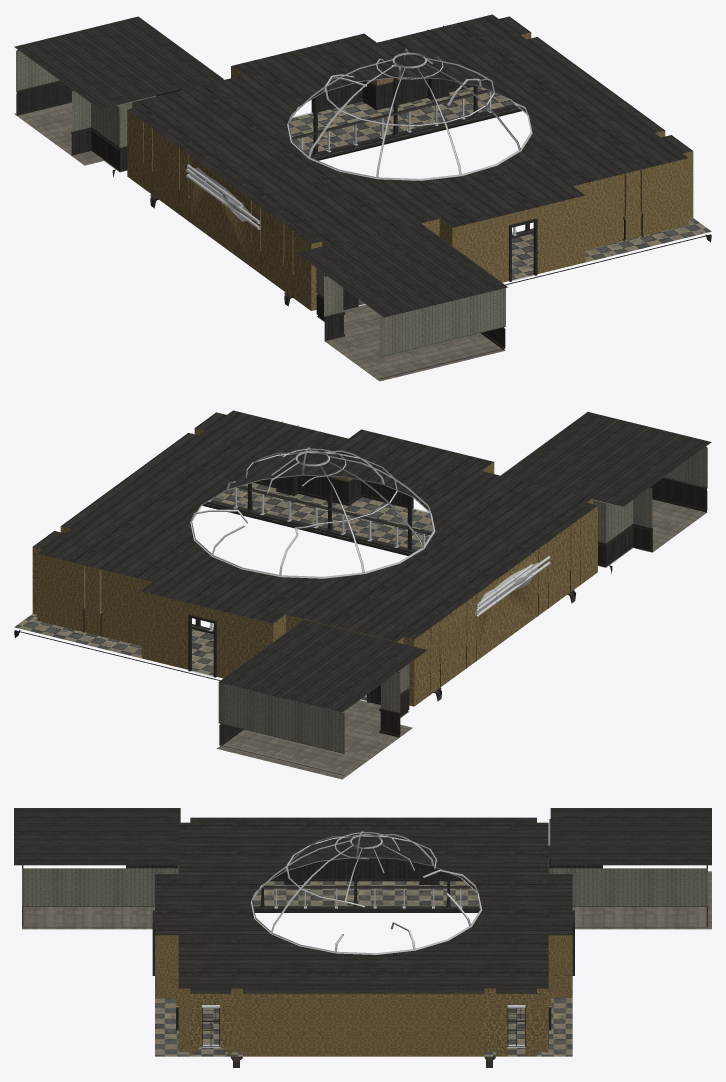
File: Lobby_Roof.fbx
3 views of the same model, one above another, from view 1: azimuth 30°, elevation 25°; view 2: azimuth 150°, elevation 25°; view 3: azimuth 270°, elevation 25° (orthographic). The views are drawn at different scales.
Parts seen in each view (by area): view 1: 1gangobj_003_None_006; view 2: 1gangobj_003_None_006; view 3: 1gangobj_003_None_006.
Boxes of the visible parts, x1,y1,x2,y2 form: 1gangobj_003_None_006: [14, 14, 711, 381]; 1gangobj_003_None_006: [14, 410, 711, 779]; 1gangobj_003_None_006: [14, 808, 711, 1067].
Size of the model in its own units: 76.58 by 26.54 by 120.
